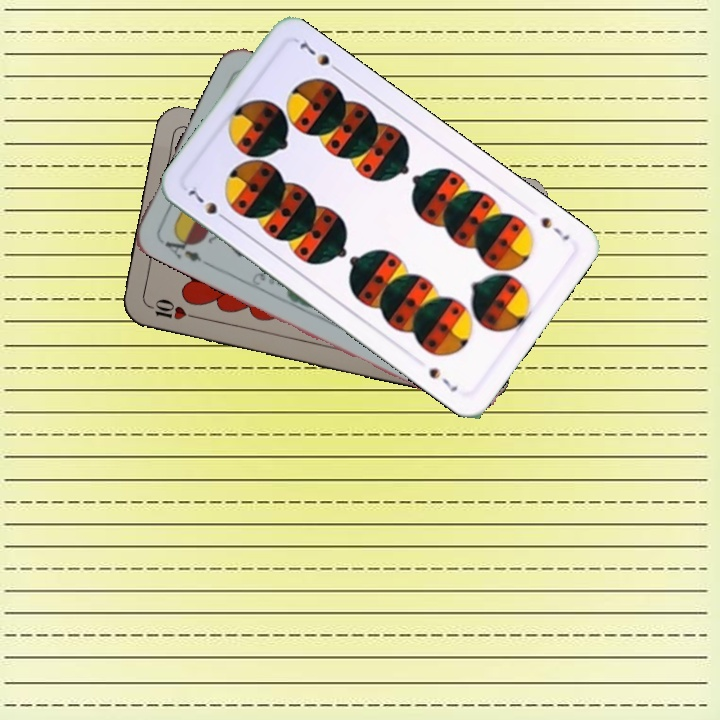EA: (156, 228, 204, 265)
H10: (143, 297, 202, 323)
S7: (181, 181, 232, 225), (536, 213, 573, 244)
